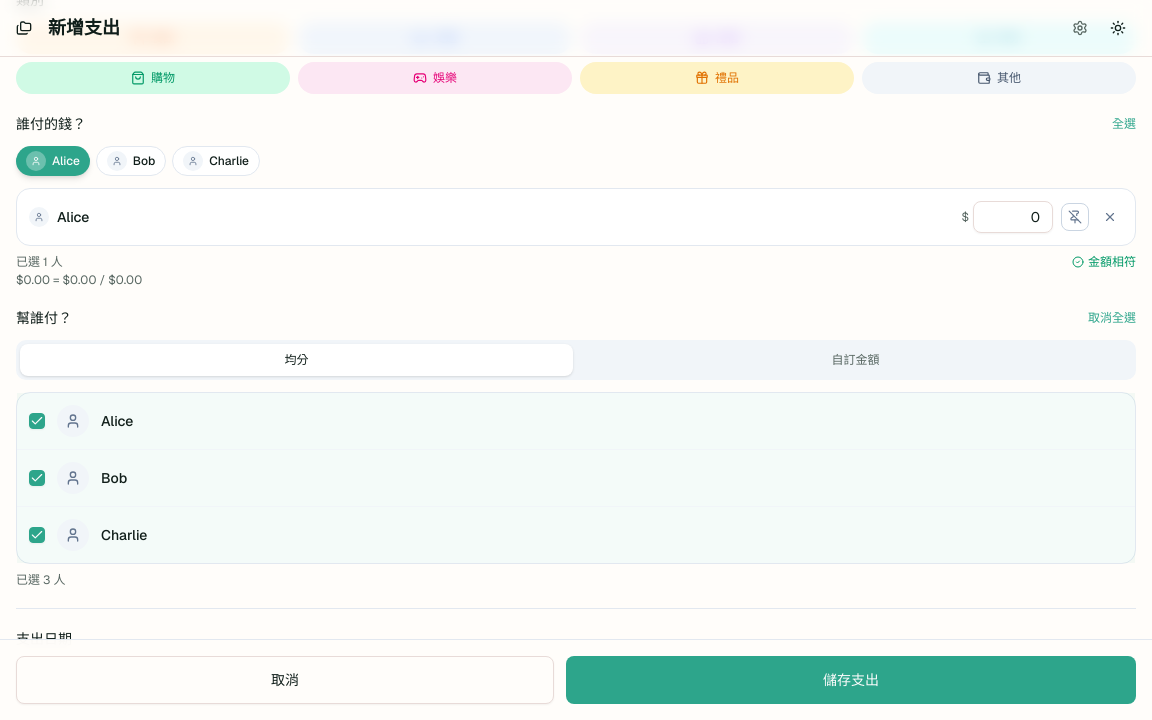
Scenario: ExpenseForm Component › splitDetail › shows the personal items note saying details are saved
(page scrolled)
Click the button "自訂金額" at (856, 360), box left=579, top=344, right=1132, bottom=376
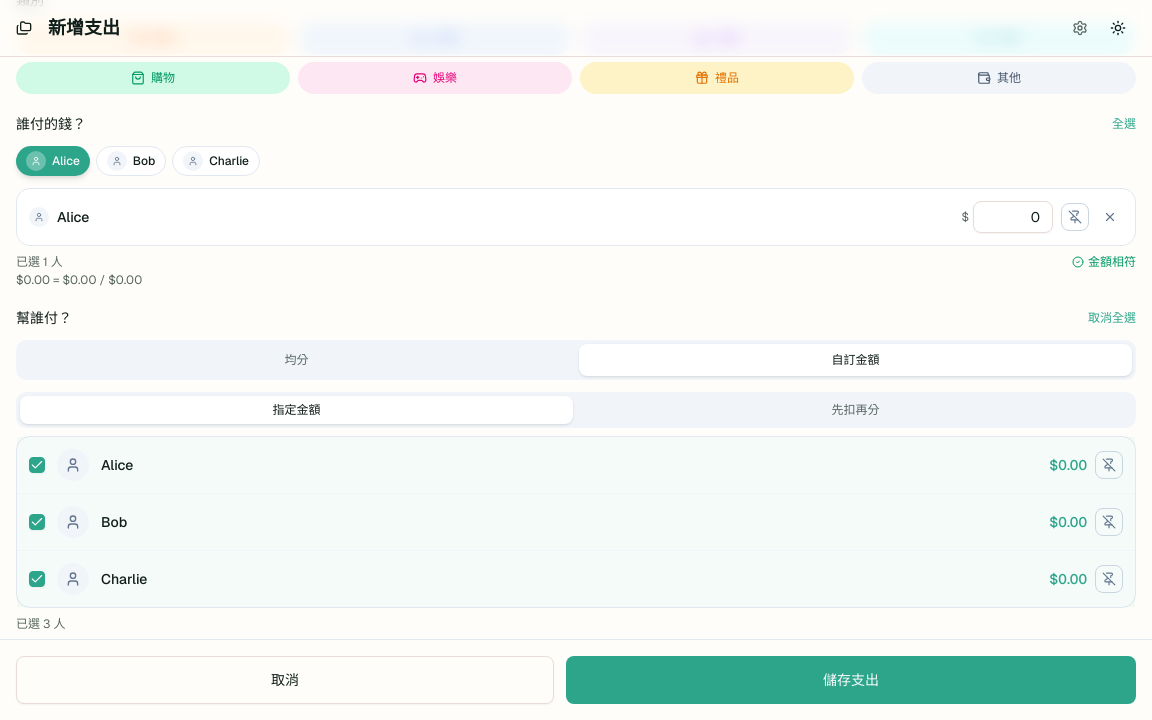
Click the button "先扣再分" at (856, 410), box left=579, top=396, right=1132, bottom=424
(page scrolled)
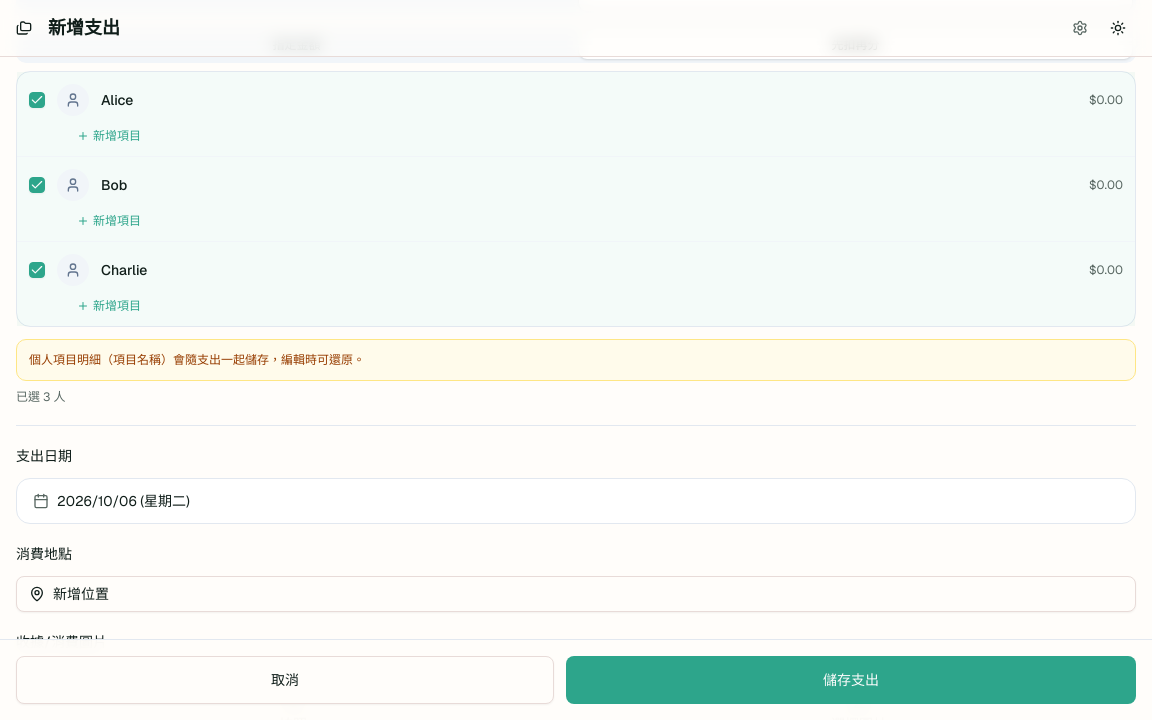
Check: the text "個人項目明細（項目名稱）會隨支出一起儲存，編輯時可還原。" is shown, box left=29, top=352, right=365, bottom=368
